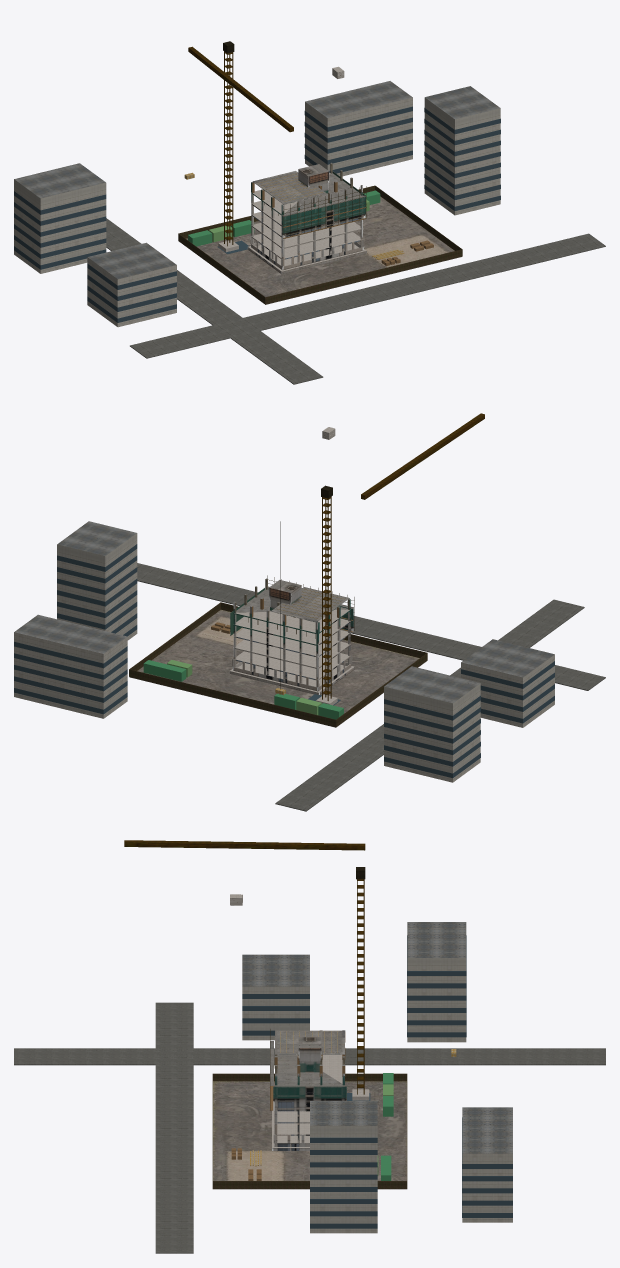
File: tower-m4.glb
3 views of the same model, one above another, from view 1: azimuth 30°, elevation 25°; view 2: azimuth 150°, elevation 25°; view 3: azimuth 270°, elevation 25° (orthographic). The views are drawn at different scales.
Visible parts, largest first — view 1: Ground_NeighbourPBR, Ground_AsphaltPBR, Ground_GlassPBR, SitePad, Ground_FencePBR, Crane_CranePBR, F06_PlywoodPBR, Slab_4, Slab_0, Raft, Slab_1, F05_NetPBR (+5 smaller); view 2: Ground_NeighbourPBR, Ground_GlassPBR, Ground_AsphaltPBR, SitePad, Ground_FencePBR, Crane_CranePBR, F06_PlywoodPBR, Slab_4, Ground_ContainerPBR, Slab_3, Slab_1, Slab_2 (+4 smaller); view 3: Ground_NeighbourPBR, Ground_AsphaltPBR, SitePad, Ground_GlassPBR, Crane_CranePBR, Ground_FencePBR, F06_PlywoodPBR, Slab_4, GravelYard, F05_NetPBR, Ground_ContainerPBR, CoreForm_6 (+1 smaller).
Part boxes in pixels (x1,y1,x2,y2): Ground_NeighbourPBR: (14,81,500,327); Ground_AsphaltPBR: (106,218,605,384); Ground_GlassPBR: (14,106,500,322); SitePad: (178,196,462,304); Ground_FencePBR: (178,185,462,304); Crane_CranePBR: (188,46,293,246); F06_PlywoodPBR: (251,171,365,216); Slab_4: (251,173,363,215); Slab_0: (251,232,362,259); Raft: (247,243,366,274); Slab_1: (251,222,363,248); F05_NetPBR: (282,171,365,227); Ground_NeighbourPBR: (14,521,554,782); Ground_GlassPBR: (14,544,554,778); Ground_AsphaltPBR: (137,563,605,811); SitePad: (129,609,427,727); Ground_FencePBR: (129,602,427,726); Crane_CranePBR: (322,413,484,700); F06_PlywoodPBR: (249,587,353,633); Slab_4: (233,589,350,634); Ground_ContainerPBR: (143,660,343,719); Slab_3: (233,616,350,645); Slab_1: (233,639,350,668); Slab_2: (233,628,350,657); Ground_NeighbourPBR: (242,922,512,1233); Ground_AsphaltPBR: (14,1002,605,1253); SitePad: (213,1081,406,1189); Ground_GlassPBR: (242,935,512,1228); Crane_CranePBR: (124,840,365,1094); Ground_FencePBR: (212,1073,407,1188); F06_PlywoodPBR: (270,1030,345,1085); Slab_4: (275,1054,344,1086); GravelYard: (225,1151,276,1180); F05_NetPBR: (273,1086,346,1098); Ground_ContainerPBR: (381,1073,393,1180); CoreForm_6: (298,1037,321,1060).
Size of what is drawn, in the model's own units: 140 by 61 by 140.
24 materials, 23 textured.
